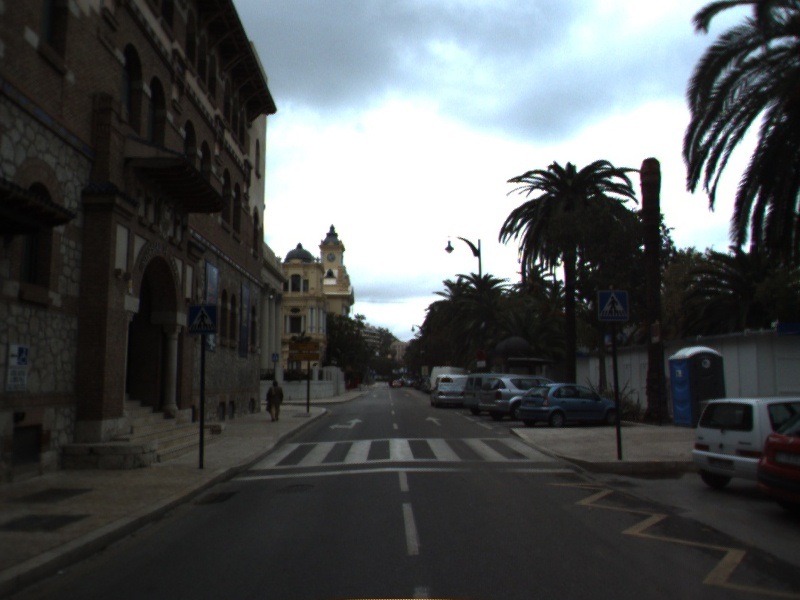STRAIGHT: (423, 414, 444, 427)
STRAIGHT_LEFT: (327, 417, 365, 432)
